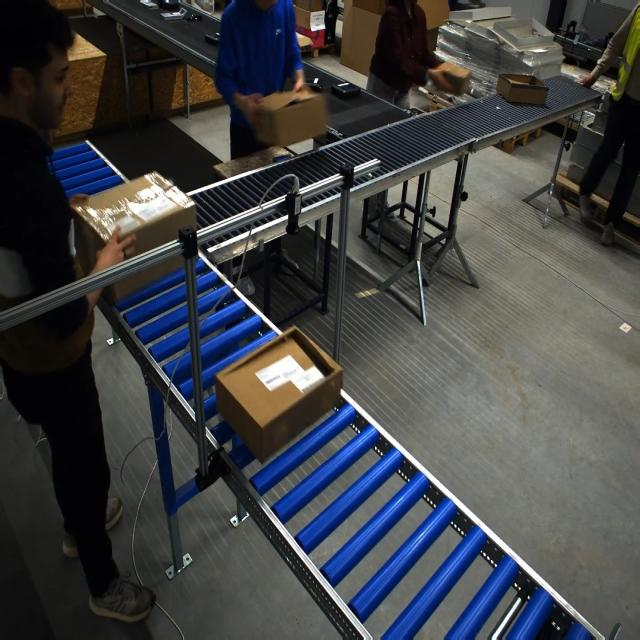box: (213, 326, 339, 460), (70, 171, 197, 296), (248, 89, 340, 145), (498, 66, 550, 114)
